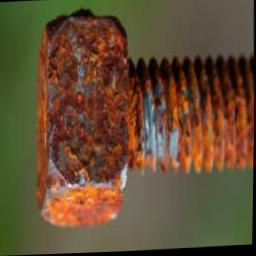Corroded-Bolt: (37, 8, 255, 228)
